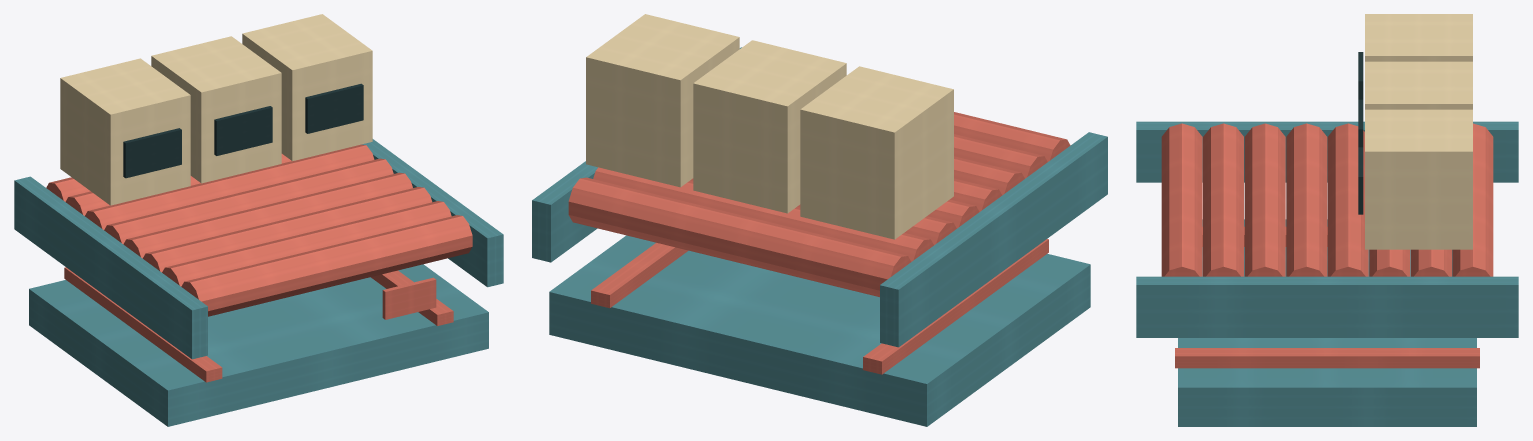
The model's file is atlas100-s074-a02.lod1.glb.
The picture shows the model from 3 angles, left to right: view 1: azimuth 30°, elevation 25°; view 2: azimuth 150°, elevation 25°; view 3: azimuth 270°, elevation 25°; orthographic projection. The views are drawn at different scales.
Parts seen in each view (by area): view 1: atlas100-s074-a02:part-000, atlas100-s074-a02:part-013, atlas100-s074-a02:part-011, atlas100-s074-a02:part-010, atlas100-s074-a02:part-015, atlas100-s074-a02:part-017, atlas100-s074-a02:part-006, atlas100-s074-a02:part-007, atlas100-s074-a02:part-008, atlas100-s074-a02:part-009, atlas100-s074-a02:part-005, atlas100-s074-a02:part-012 (+8 smaller); view 2: atlas100-s074-a02:part-000, atlas100-s074-a02:part-013, atlas100-s074-a02:part-017, atlas100-s074-a02:part-015, atlas100-s074-a02:part-011, atlas100-s074-a02:part-003, atlas100-s074-a02:part-004, atlas100-s074-a02:part-012, atlas100-s074-a02:part-001, atlas100-s074-a02:part-010, atlas100-s074-a02:part-002, atlas100-s074-a02:part-009 (+4 smaller); view 3: atlas100-s074-a02:part-012, atlas100-s074-a02:part-000, atlas100-s074-a02:part-017, atlas100-s074-a02:part-002, atlas100-s074-a02:part-007, atlas100-s074-a02:part-008, atlas100-s074-a02:part-010, atlas100-s074-a02:part-009, atlas100-s074-a02:part-006, atlas100-s074-a02:part-015, atlas100-s074-a02:part-013, atlas100-s074-a02:part-011 (+4 smaller).
Part boxes in pixels (left/top/right/bottom): atlas100-s074-a02:part-000: left=29, top=264, right=488, bottom=426; atlas100-s074-a02:part-013: left=60, top=58, right=190, bottom=205; atlas100-s074-a02:part-011: left=14, top=176, right=207, bottom=359; atlas100-s074-a02:part-010: left=181, top=215, right=472, bottom=316; atlas100-s074-a02:part-015: left=151, top=36, right=281, bottom=183; atlas100-s074-a02:part-017: left=242, top=14, right=372, bottom=161; atlas100-s074-a02:part-006: left=104, top=158, right=393, bottom=244; atlas100-s074-a02:part-007: left=123, top=172, right=412, bottom=258; atlas100-s074-a02:part-008: left=143, top=187, right=432, bottom=272; atlas100-s074-a02:part-009: left=162, top=201, right=451, bottom=286; atlas100-s074-a02:part-005: left=85, top=144, right=374, bottom=229; atlas100-s074-a02:part-012: left=361, top=139, right=503, bottom=287; atlas100-s074-a02:part-000: left=549, top=235, right=1090, bottom=426; atlas100-s074-a02:part-013: left=800, top=66, right=953, bottom=239; atlas100-s074-a02:part-017: left=586, top=14, right=739, bottom=187; atlas100-s074-a02:part-015: left=693, top=40, right=846, bottom=213; atlas100-s074-a02:part-011: left=880, top=132, right=1107, bottom=347; atlas100-s074-a02:part-003: left=568, top=177, right=911, bottom=297; atlas100-s074-a02:part-004: left=593, top=167, right=933, bottom=261; atlas100-s074-a02:part-012: left=532, top=47, right=741, bottom=262; atlas100-s074-a02:part-001: left=863, top=239, right=1048, bottom=374; atlas100-s074-a02:part-010: left=954, top=112, right=1070, bottom=161; atlas100-s074-a02:part-002: left=591, top=243, right=688, bottom=308; atlas100-s074-a02:part-009: left=954, top=134, right=1047, bottom=178; atlas100-s074-a02:part-012: left=1136, top=276, right=1518, bottom=337; atlas100-s074-a02:part-000: left=1178, top=219, right=1476, bottom=426; atlas100-s074-a02:part-017: left=1365, top=109, right=1472, bottom=249; atlas100-s074-a02:part-002: left=1175, top=348, right=1479, bottom=368; atlas100-s074-a02:part-007: left=1286, top=123, right=1327, bottom=276; atlas100-s074-a02:part-008: left=1244, top=123, right=1285, bottom=276; atlas100-s074-a02:part-010: left=1161, top=123, right=1202, bottom=276; atlas100-s074-a02:part-009: left=1203, top=123, right=1243, bottom=276; atlas100-s074-a02:part-006: left=1327, top=123, right=1368, bottom=276; atlas100-s074-a02:part-015: left=1365, top=61, right=1472, bottom=109; atlas100-s074-a02:part-013: left=1365, top=14, right=1472, bottom=61; atlas100-s074-a02:part-011: left=1136, top=121, right=1518, bottom=182.
Bounding box in the file's own units: 2.4 × 1.73 × 2.3.
4 materials, 4 textured.
